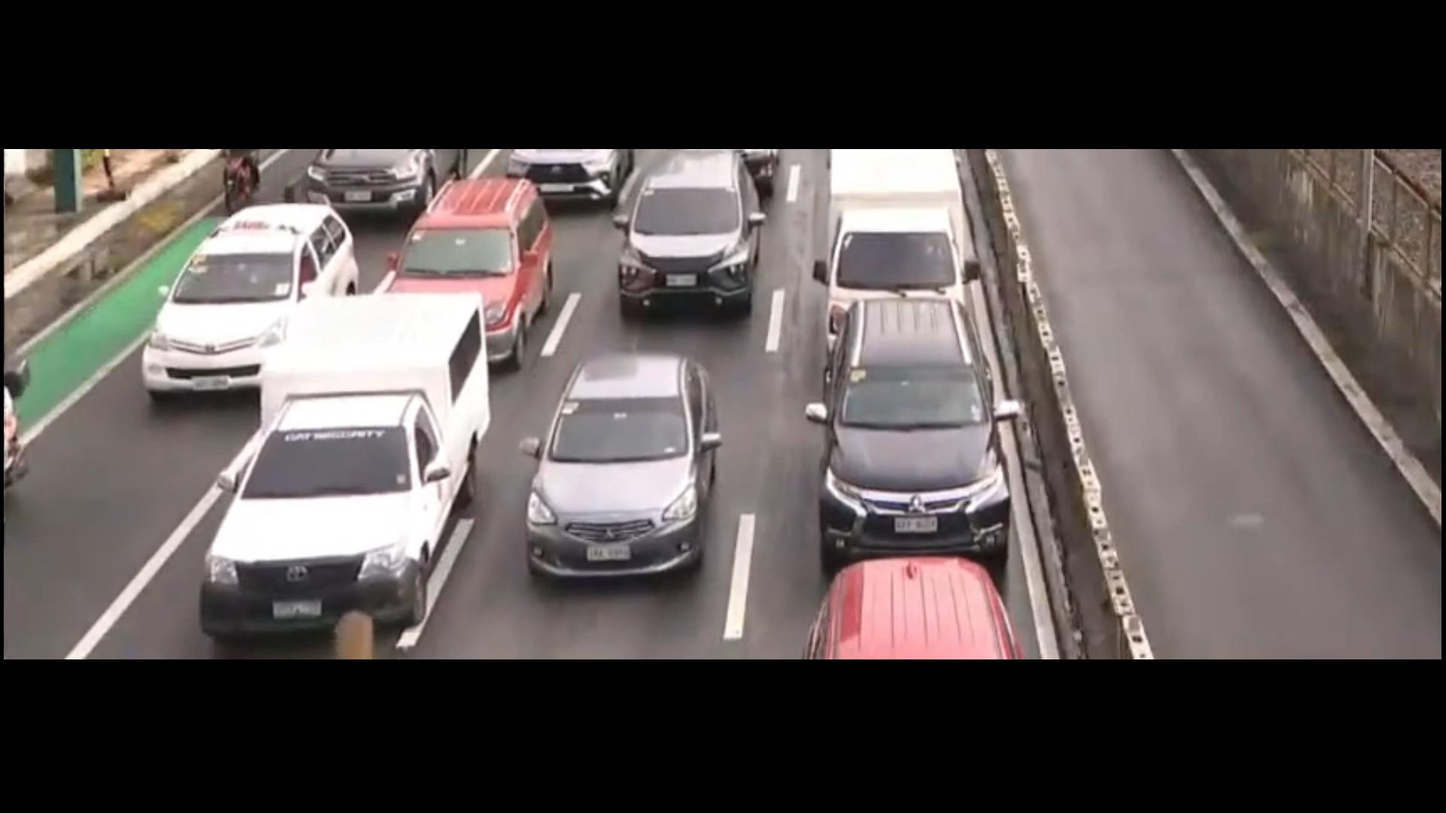Multicab: (203, 290, 486, 630), (808, 151, 981, 359)
SUV: (802, 295, 1005, 563), (386, 179, 546, 359), (608, 158, 755, 324), (789, 563, 1017, 659)
Sedan: (527, 356, 719, 580), (141, 205, 348, 401)
